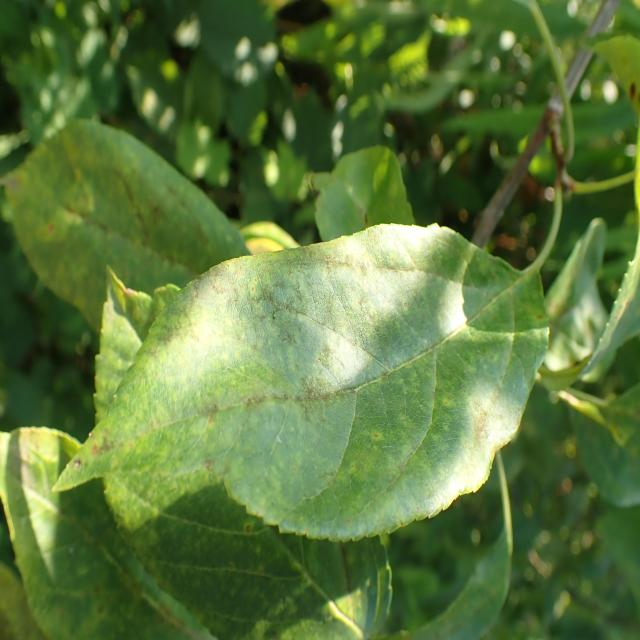scab: (81, 250, 538, 491), (17, 95, 246, 283)
